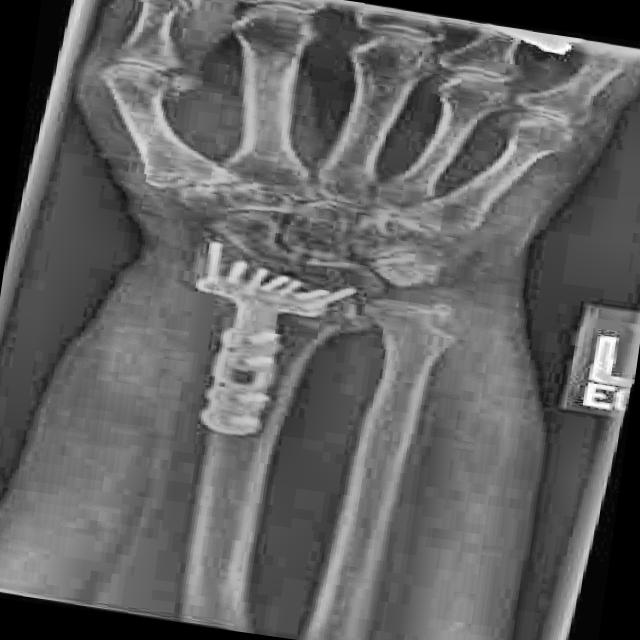fingers positive: (167, 248, 395, 350)
